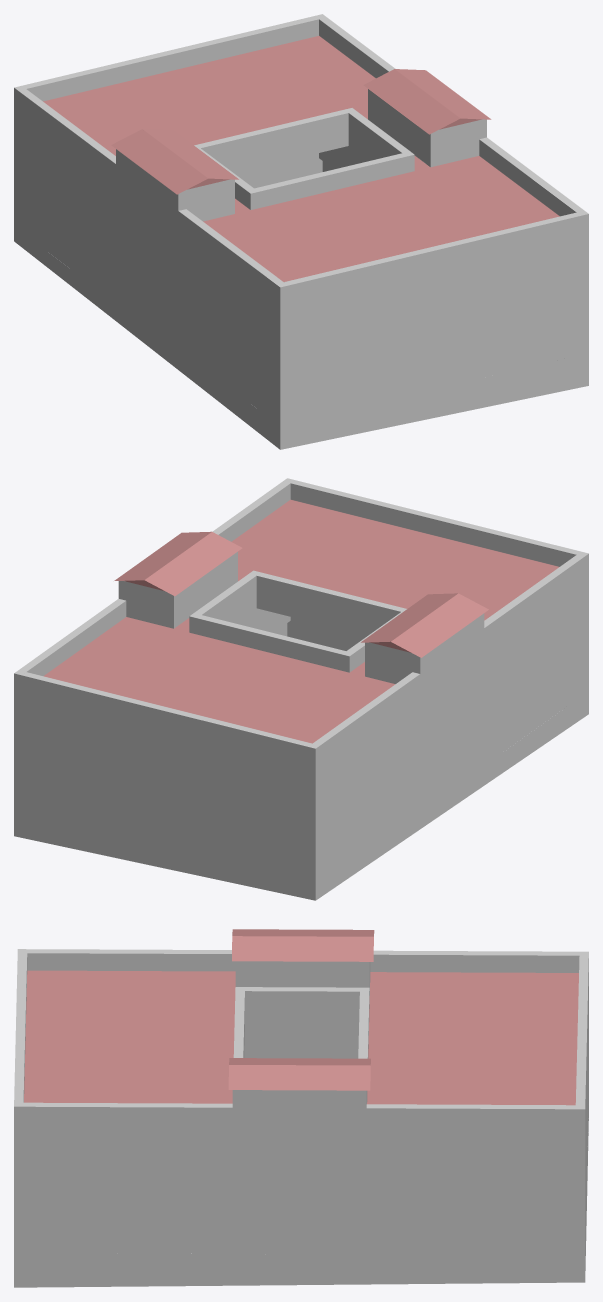
File: LOD_Block_4_28.glb
3 views of the same model, one above another, from view 1: azimuth 30°, elevation 25°; view 2: azimuth 150°, elevation 25°; view 3: azimuth 270°, elevation 25° (orthographic). The views are drawn at different scales.
Parts seen in each view (by area): view 1: mesh_CityEngineMaterial_451; view 2: mesh_CityEngineMaterial_451; view 3: mesh_CityEngineMaterial_451.
Boxes of the visible parts, left/top/right/bottom form: mesh_CityEngineMaterial_451: left=14, top=14, right=588, bottom=449; mesh_CityEngineMaterial_451: left=14, top=478, right=588, bottom=900; mesh_CityEngineMaterial_451: left=14, top=929, right=588, bottom=1287.
Bounding box in the file's own units: 19.96 × 12.08 × 30.06.
